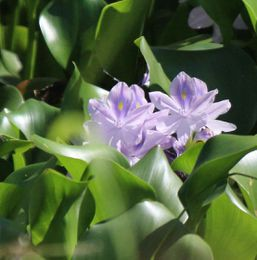water_hyacinth: (1, 1, 257, 260)
